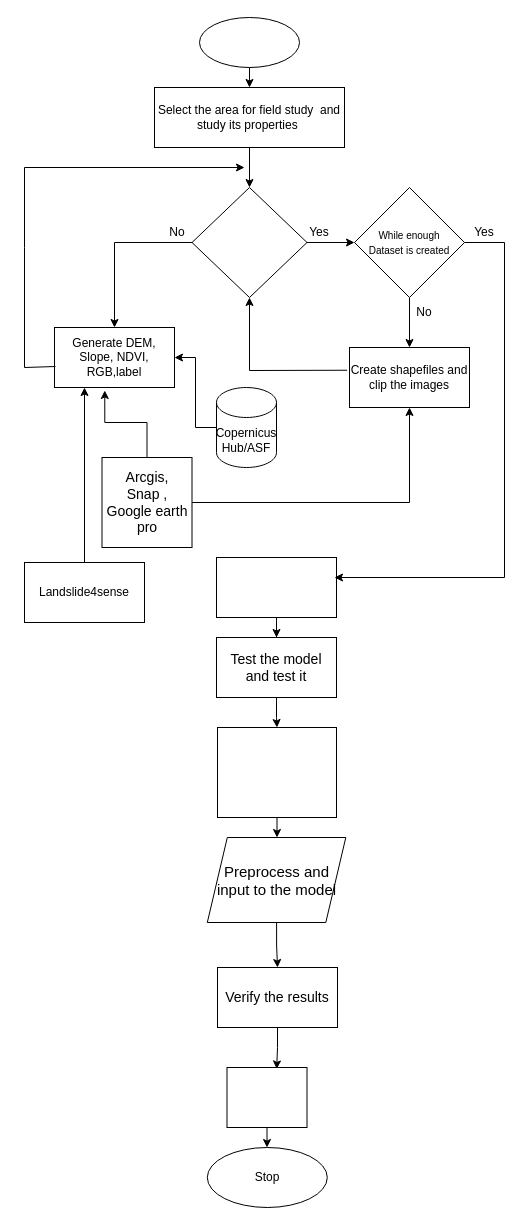
Image size: 532x1225. Some labels were removed from this diagram. The shapes that lost their labels are listed below. From the top down, each one's centre as x and y in pixels, then its label:
At (x=249, y=42): "Start".
At (x=249, y=242): "The whole world is covered".
At (x=276, y=587): "Train the Unet model".
At (x=276, y=772): "Generate DEM,Slope, NDVI, RGB for selected area of study".
At (x=266, y=1097): "Develop GUI Application".
